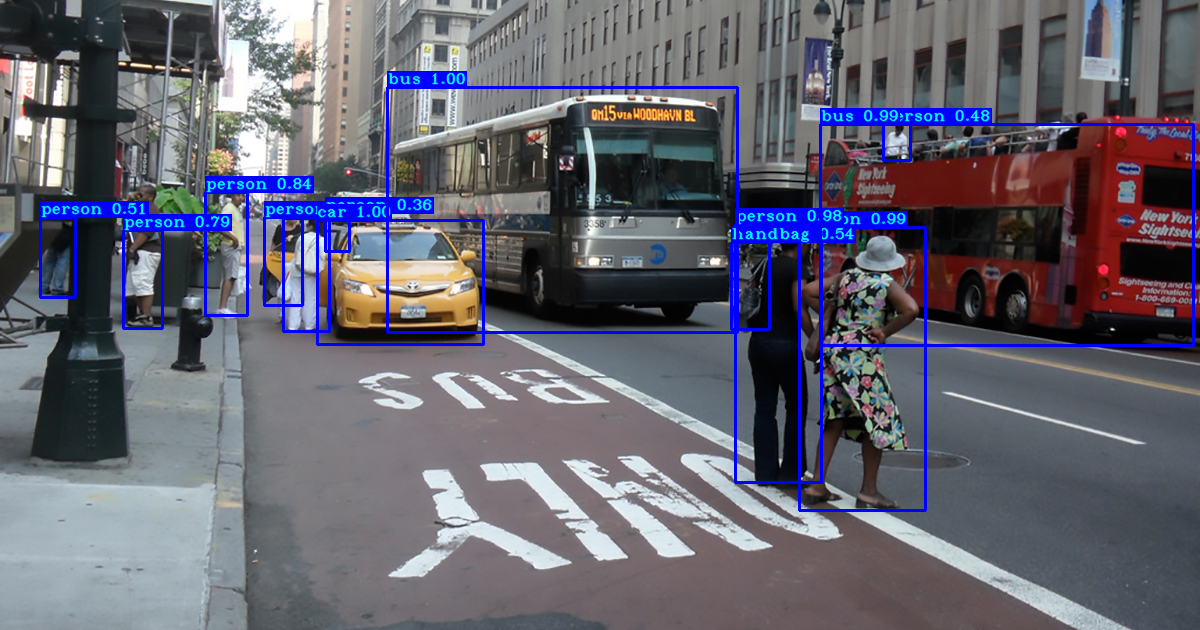bus: (387, 87, 737, 332), (820, 124, 1193, 345)
car: (317, 220, 483, 344)
handbag: (731, 242, 769, 329)
person: (799, 227, 925, 510), (735, 224, 821, 482), (283, 218, 329, 331), (205, 192, 247, 315), (123, 230, 162, 328), (264, 217, 302, 305), (40, 217, 75, 297), (883, 124, 910, 160), (325, 213, 349, 251)
